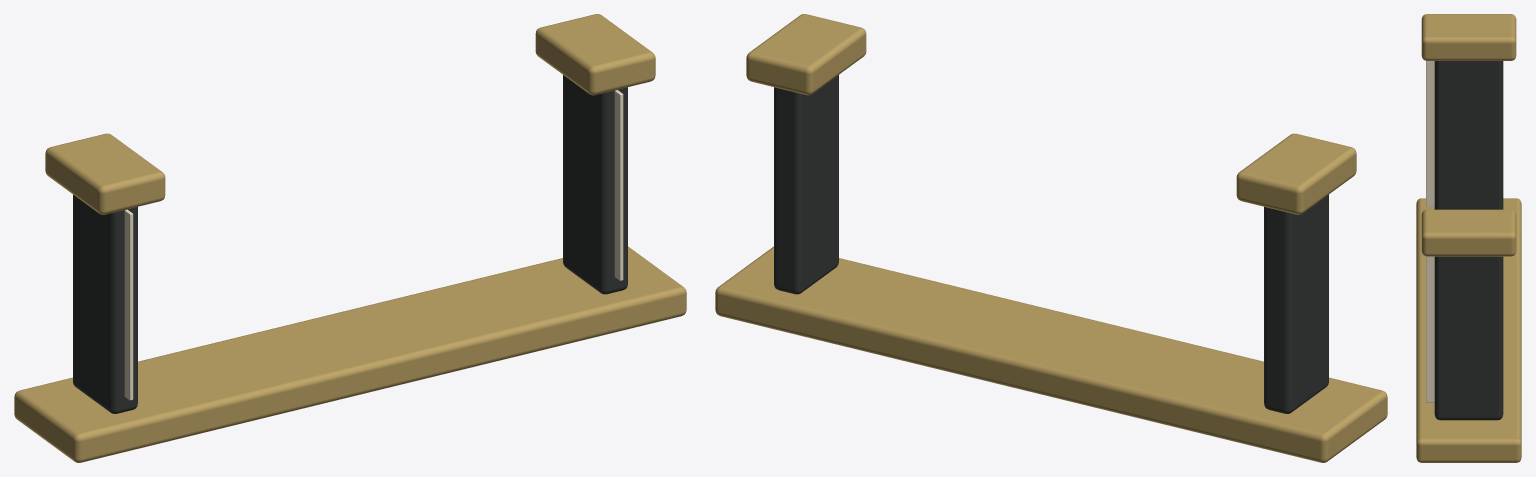
The model's file is fantasy-cartographers-map-printing-guild-sighting-alid-55d3a0c5__32236.glb.
3 renders of one model, left to right at view 1: azimuth 30°, elevation 25°; view 2: azimuth 150°, elevation 25°; view 3: azimuth 270°, elevation 25°, orthographic. The views are drawn at different scales.
Visible parts, largest first — view 1: sighting-alidade; view 2: sighting-alidade; view 3: sighting-alidade.
Boxes of the visible parts, left/top/right/bottom form: sighting-alidade: left=14, top=14, right=686, bottom=462; sighting-alidade: left=715, top=14, right=1387, bottom=462; sighting-alidade: left=1416, top=14, right=1521, bottom=462.
Bounding box in the file's own units: 0.55 × 0.23 × 0.1.
